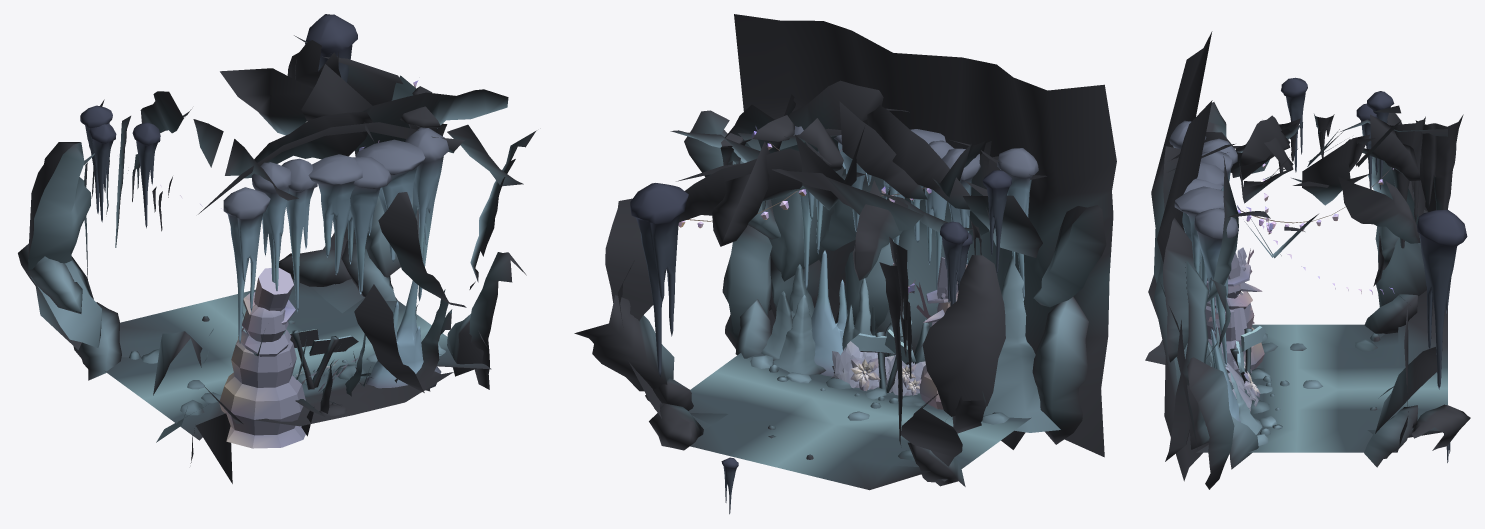
File: Arctic_Tunnels_T_Junction_A.glb
3 views of the same model, side by side, from view 1: azimuth 30°, elevation 25°; view 2: azimuth 150°, elevation 25°; view 3: azimuth 270°, elevation 25° (orthographic). The views are drawn at different scales.
Parts seen in each view (by area): view 1: Arctic_Tunnels_T_Junction_A, Arctic_Snowman_01_holiday, Arctic_Tunnels_Icicle_Bright_A08, Arctic_Tunnels_Icicle_Bright_A05, Arctic_Tunnels_Icicle_Bright_A02 (1), Arctic_Tunnels_Icicle_Bright_A04, Arctic_Tunnels_Icicle_Bright_A03, Arctic_Tunnels_Icicle_Bright_A08 (1), Arctic_Tunnels_Icicle_Bright_A07, Arctic_Tunnels_Icicle_Bright_A06, Arctic_Tunnels_Icicle_Shadow_A02, Arctic_SnowmanHat_02_holiday (+3 smaller); view 2: Arctic_Tunnels_T_Junction_A, Arctic_Tunnels_Icicle_Shadow_A02, Arctic_Tunnels_Icicle_Bright_A08 (1), Arctic_Tunnels_Icicle_Bright_A08, Arctic_Tunnels_Icicle_Shadow_A06, Arctic_Tunnels_Icicle_Shadow_A03, Arctic_Tunnels_Icicle_Bright_A06, Arctic_Tunnels_Icicle_Bright_A02 (1), Arctic_Tunnels_Icicle_Bright_A07, Arctic_Snowman_01_holiday, Bush_A (2), Arctic_Poinsettia_holiday (+1 smaller); view 3: Arctic_Tunnels_T_Junction_A, Arctic_Tunnels_Icicle_Shadow_A02, Arctic_Snowman_01_holiday, Arctic_Tunnels_Icicle_Bright_A02 (1), Arctic_Tunnels_Icicle_Bright_A03, Arctic_Tunnels_Icicle_Shadow_A06, Arctic_Tunnels_Icicle_Shadow_A03, Arctic_SnowmanHat_02_holiday, Arctic_Tunnels_Icicle_Bright_A08 (1), Arctic_Tunnels_Icicle_Shadow_A02 (1), Arctic_Tunnels_Icicle_Bright_A05, Arctic_Tunnels_Icicle_Bright_A04 (+3 smaller).
Boxes of the visible parts, x1,y1,x2,y2 form: Arctic_Tunnels_T_Junction_A: [18, 35, 536, 483]; Arctic_Snowman_01_holiday: [219, 304, 305, 448]; Arctic_Tunnels_Icicle_Bright_A08: [223, 187, 270, 343]; Arctic_Tunnels_Icicle_Bright_A05: [308, 154, 363, 274]; Arctic_Tunnels_Icicle_Bright_A02 (1): [405, 127, 448, 301]; Arctic_Tunnels_Icicle_Bright_A04: [347, 157, 391, 294]; Arctic_Tunnels_Icicle_Bright_A03: [356, 139, 425, 262]; Arctic_Tunnels_Icicle_Bright_A08 (1): [365, 280, 441, 390]; Arctic_Tunnels_Icicle_Bright_A07: [251, 162, 291, 290]; Arctic_Tunnels_Icicle_Bright_A06: [281, 158, 317, 311]; Arctic_Tunnels_Icicle_Shadow_A02: [305, 14, 357, 82]; Arctic_SnowmanHat_02_holiday: [243, 268, 295, 324]; Arctic_Tunnels_T_Junction_A: [574, 14, 1116, 490]; Arctic_Tunnels_Icicle_Shadow_A02: [630, 183, 688, 377]; Arctic_Tunnels_Icicle_Bright_A08 (1): [811, 250, 847, 376]; Arctic_Tunnels_Icicle_Bright_A08: [997, 148, 1038, 300]; Arctic_Tunnels_Icicle_Shadow_A06: [982, 170, 1011, 273]; Arctic_Tunnels_Icicle_Shadow_A03: [940, 221, 968, 305]; Arctic_Tunnels_Icicle_Bright_A06: [924, 140, 954, 289]; Arctic_Tunnels_Icicle_Bright_A02 (1): [793, 126, 823, 289]; Arctic_Tunnels_Icicle_Bright_A07: [942, 148, 980, 264]; Arctic_Snowman_01_holiday: [915, 282, 956, 409]; Bush_A (2): [831, 341, 877, 388]; Arctic_Poinsettia_holiday: [850, 358, 880, 391]; Arctic_Tunnels_T_Junction_A: [1145, 31, 1470, 489]; Arctic_Tunnels_Icicle_Shadow_A02: [1417, 209, 1467, 389]; Arctic_Snowman_01_holiday: [1205, 248, 1264, 374]; Arctic_Tunnels_Icicle_Bright_A02 (1): [1194, 208, 1238, 366]; Arctic_Tunnels_Icicle_Bright_A03: [1174, 186, 1224, 285]; Arctic_Tunnels_Icicle_Shadow_A06: [1281, 77, 1307, 172]; Arctic_Tunnels_Icicle_Shadow_A03: [1367, 91, 1394, 189]; Arctic_SnowmanHat_02_holiday: [1206, 247, 1250, 286]; Arctic_Tunnels_Icicle_Bright_A08 (1): [1205, 328, 1240, 423]; Arctic_Tunnels_Icicle_Shadow_A02 (1): [1356, 103, 1377, 189]; Arctic_Tunnels_Icicle_Bright_A05: [1197, 161, 1224, 266]; Arctic_Tunnels_Icicle_Bright_A04: [1169, 178, 1222, 257].
Size of what is drawn, in the model's own units: 12.46 by 10.63 by 9.04.
